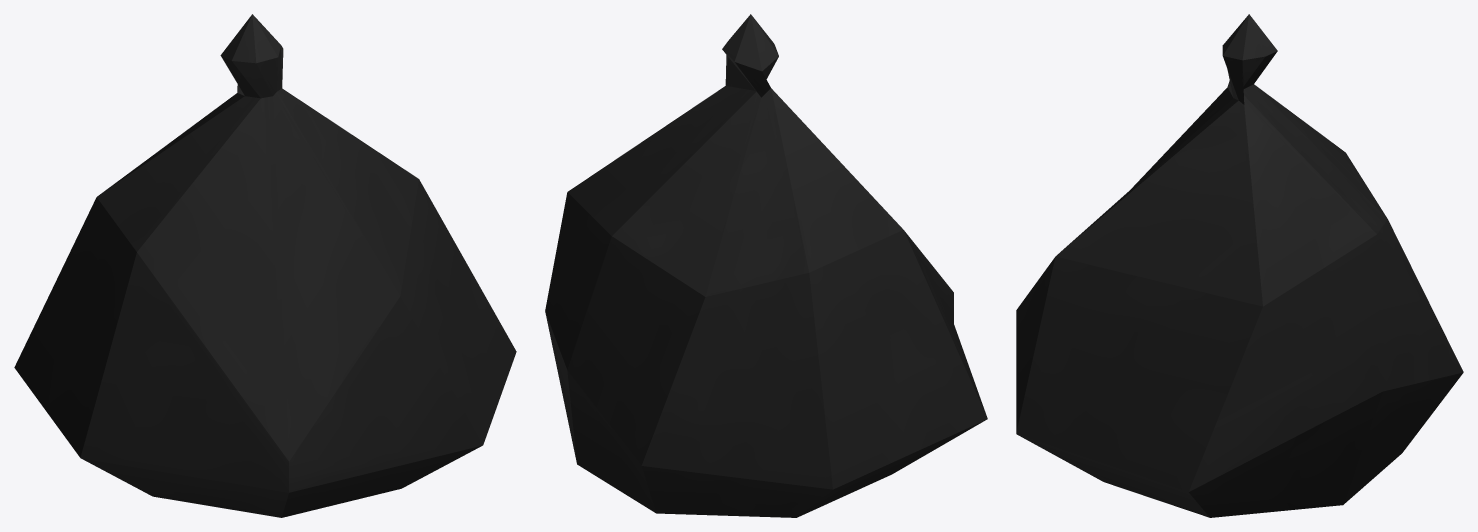
Rendered from garbage_bag.fbx.
The picture shows the model from 3 angles, left to right: view 1: azimuth 30°, elevation 25°; view 2: azimuth 150°, elevation 25°; view 3: azimuth 270°, elevation 25°; orthographic projection. The views are drawn at different scales.
Parts seen in each view (by area): view 1: Sphere; view 2: Sphere; view 3: Sphere.
Boxes of the visible parts, x1=… form: Sphere: x1=14, y1=14, x2=516, y2=517; Sphere: x1=545, y1=14, x2=987, y2=517; Sphere: x1=1016, y1=14, x2=1463, y2=517.
Bounding box in the file's own units: 185 × 197 × 167.
